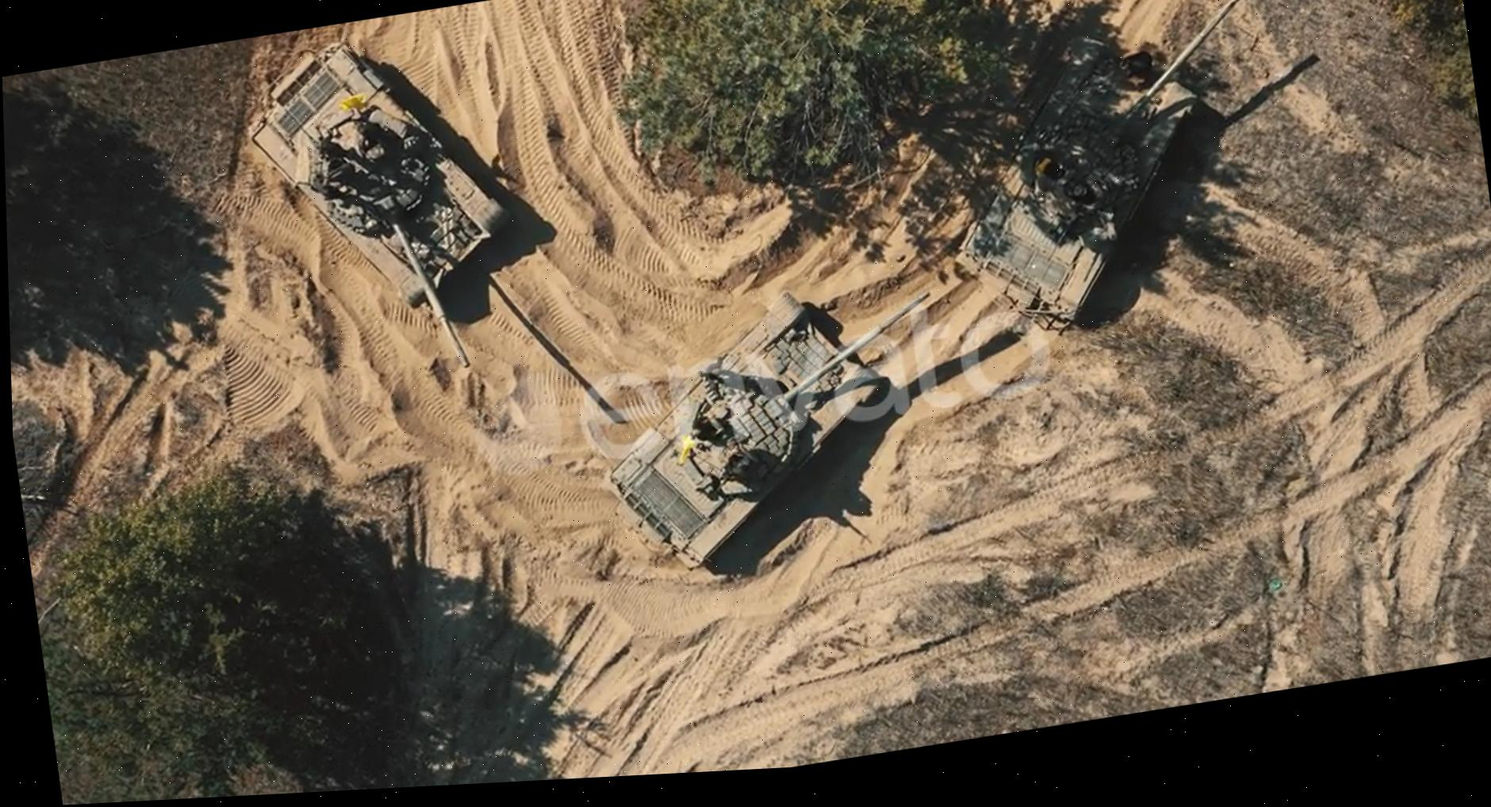tank: (916, 0, 1302, 352), (586, 262, 975, 593), (236, 14, 559, 405)
